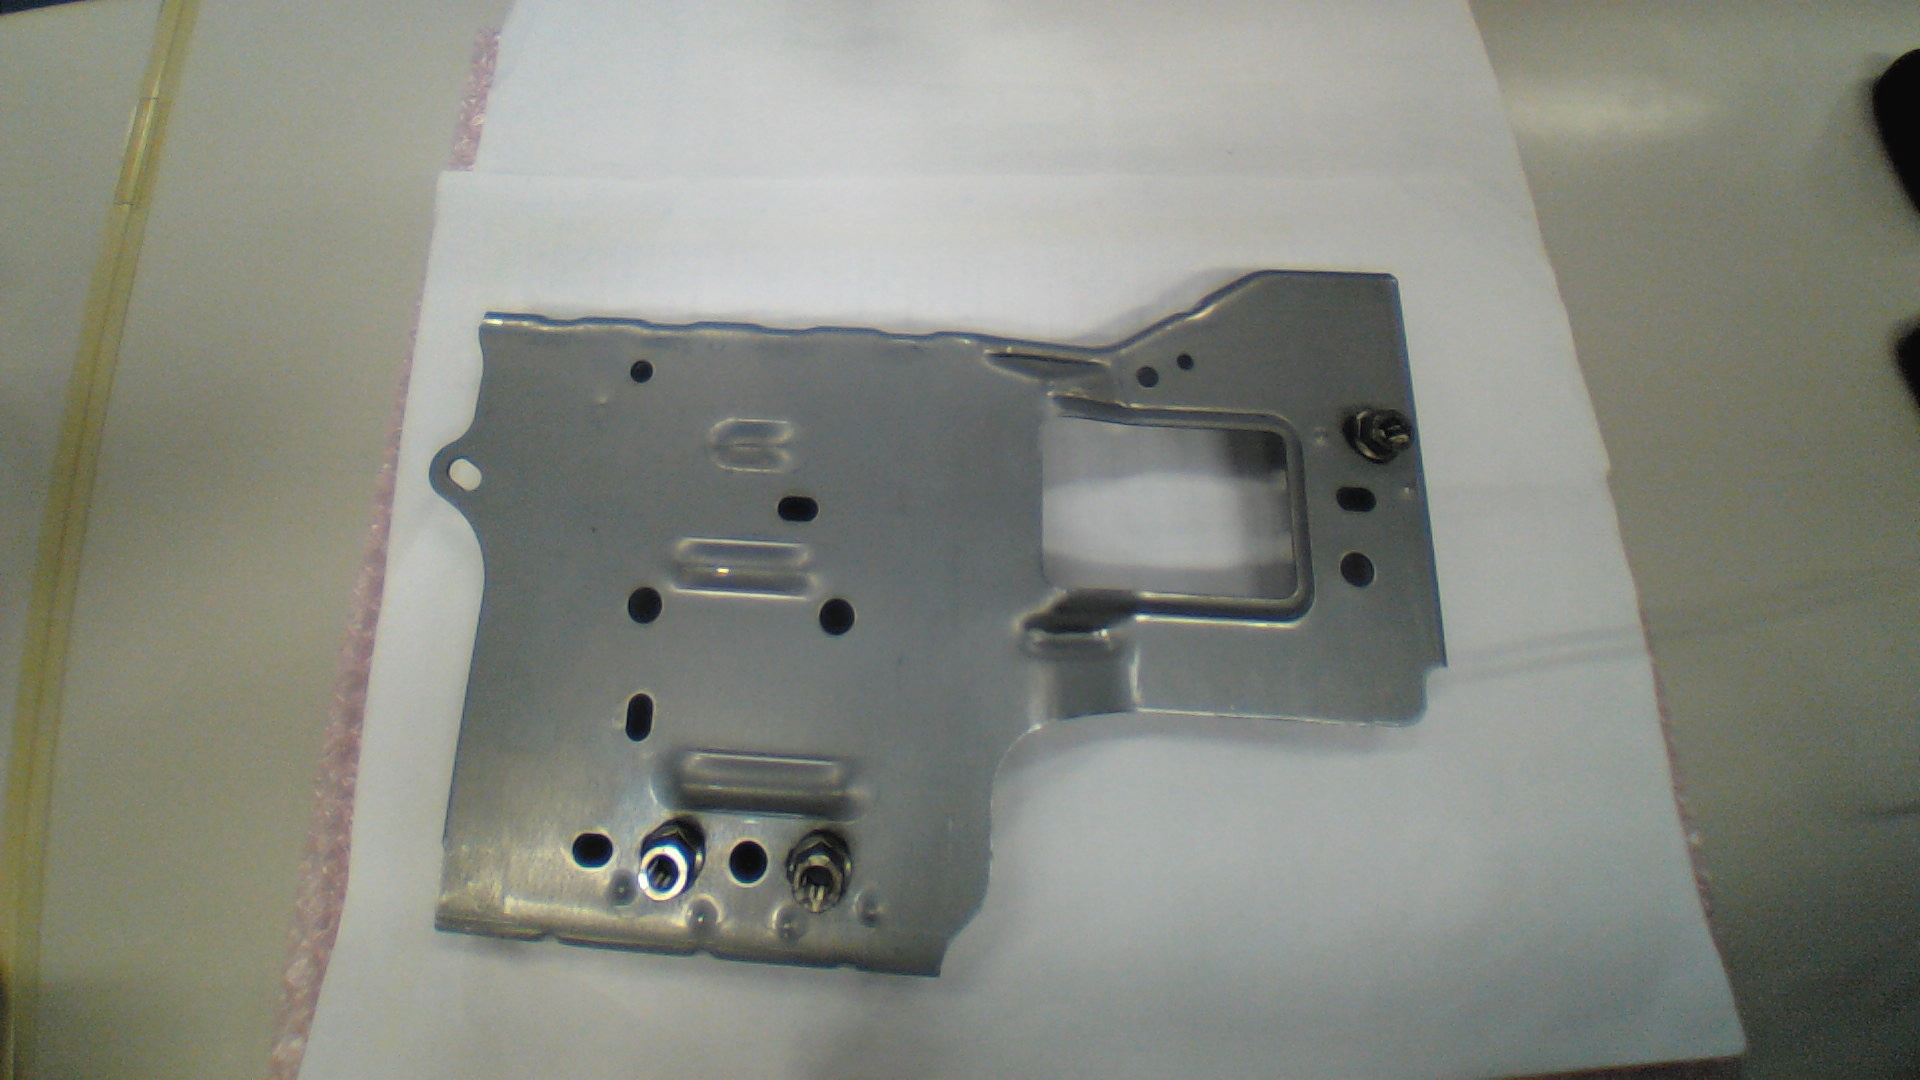dog: (781, 825, 855, 916), (638, 816, 709, 899), (1345, 402, 1415, 465)
